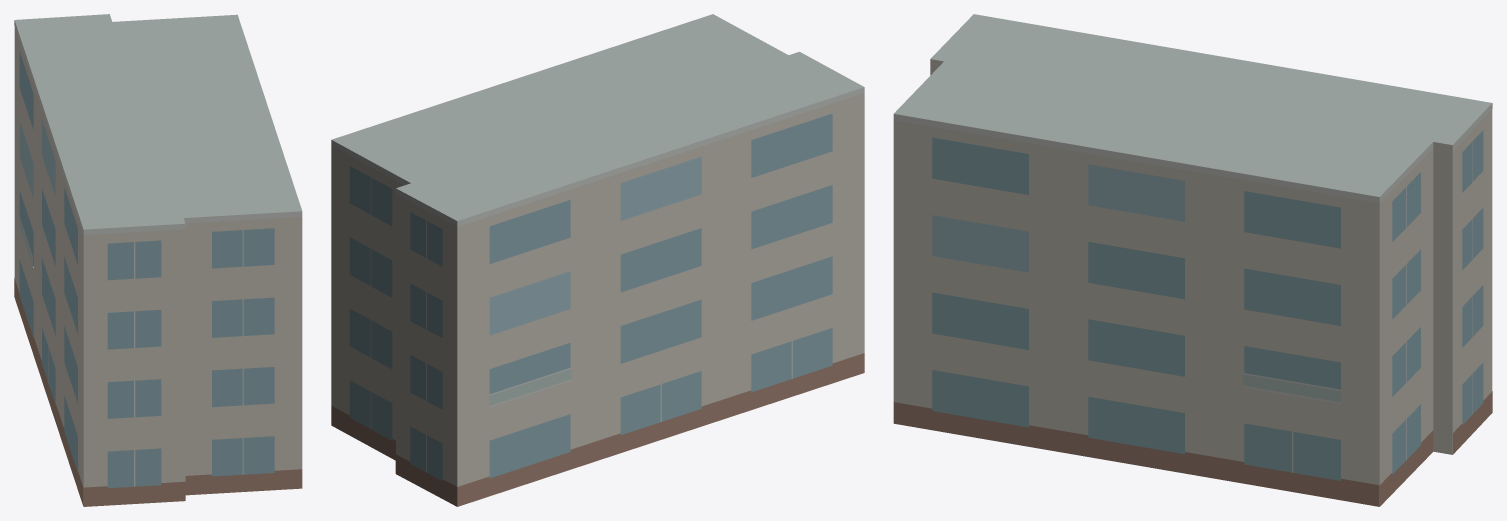
Rendered from survey-upis-32824151.glb.
3 renders of one model, left to right at view 1: azimuth 30°, elevation 25°; view 2: azimuth 150°, elevation 25°; view 3: azimuth 270°, elevation 25°, orthographic. The views are drawn at different scales.
Parts seen in each view (by area): view 1: survey-upis-32824151.tmp; view 2: survey-upis-32824151.tmp; view 3: survey-upis-32824151.tmp.
Boxes of the visible parts, x1,y1,x2,y2 form: survey-upis-32824151.tmp: (14,14,302,506); survey-upis-32824151.tmp: (331,14,864,506); survey-upis-32824151.tmp: (893,14,1492,506).
Size of the model in its own units: 15.47 by 12.2 by 21.38.
